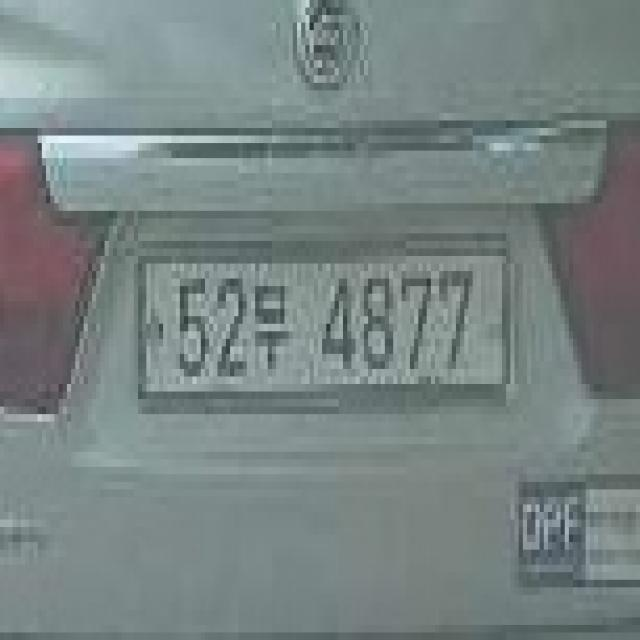2: (214, 273, 252, 382)
4: (317, 276, 358, 378)
5: (176, 273, 211, 382)
7: (436, 262, 474, 384), (399, 270, 432, 380)
8: (360, 273, 394, 378)
license_plate: (135, 227, 522, 418)
mu: (253, 272, 290, 378)
